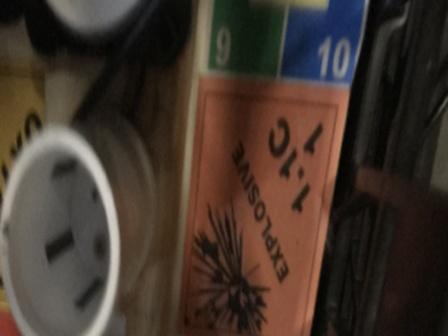explosive: (177, 78, 351, 336)
